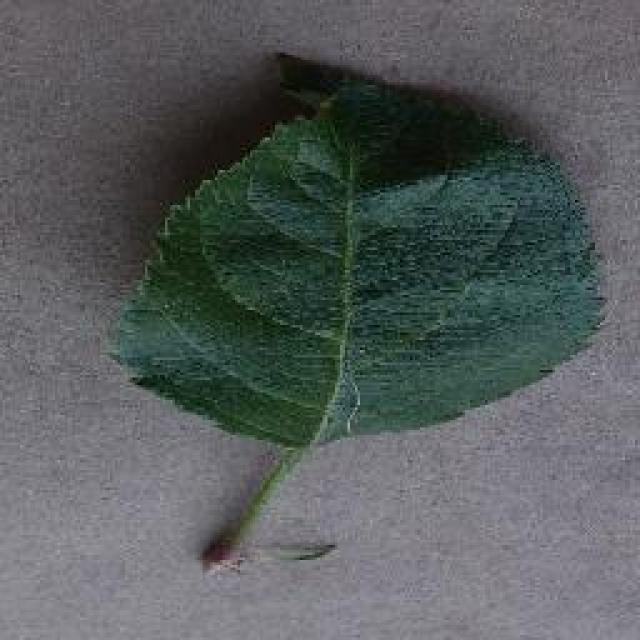apple healthy: (110, 48, 608, 568)
